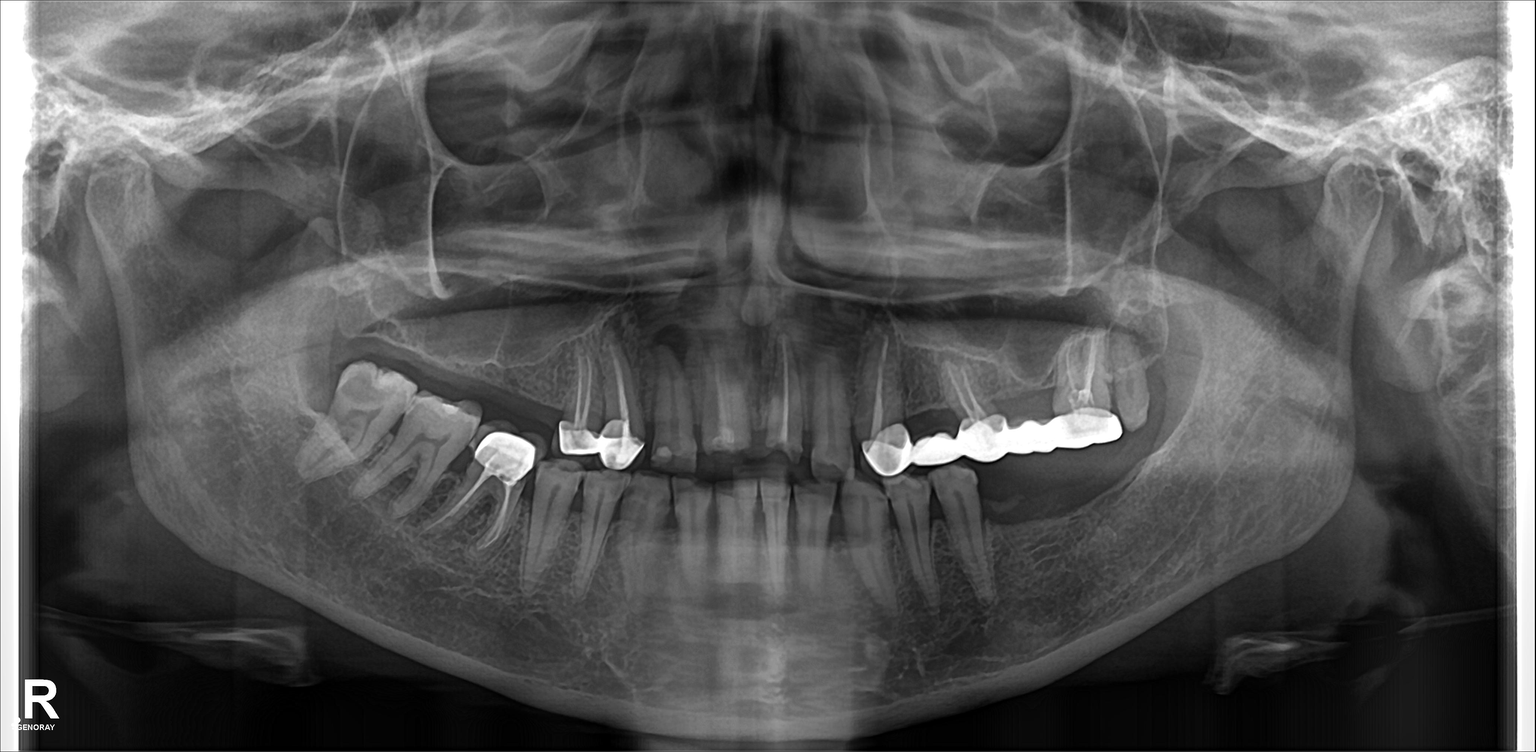Dental Caries: (337, 370, 396, 410)
Endodontically Treated Tooth: (458, 430, 533, 545), (1067, 324, 1120, 436), (857, 361, 909, 474), (603, 339, 642, 469), (769, 335, 806, 463), (952, 350, 998, 450), (559, 344, 597, 456), (704, 361, 745, 451)
Missing Tooth: (387, 272, 444, 384), (508, 292, 560, 410), (456, 279, 504, 387), (1039, 463, 1077, 576), (1121, 331, 1161, 423), (1088, 460, 1129, 547), (996, 471, 1028, 581), (348, 268, 384, 359)
